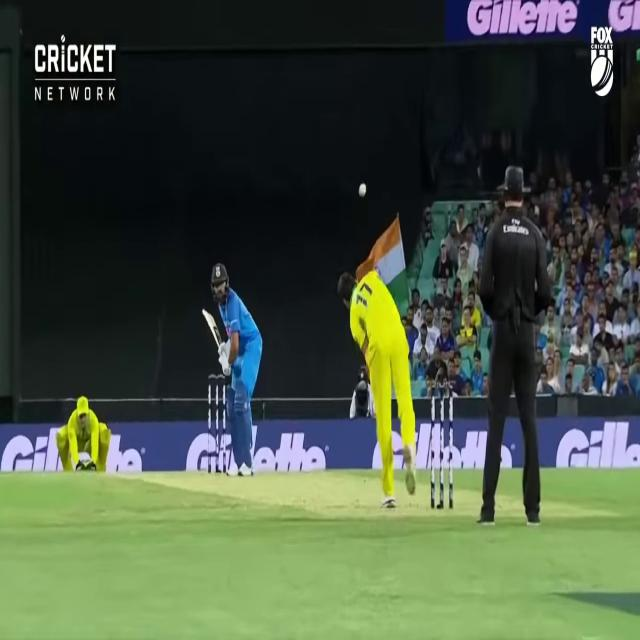ball: (360, 182, 366, 196)
stump: (208, 375, 225, 475)
